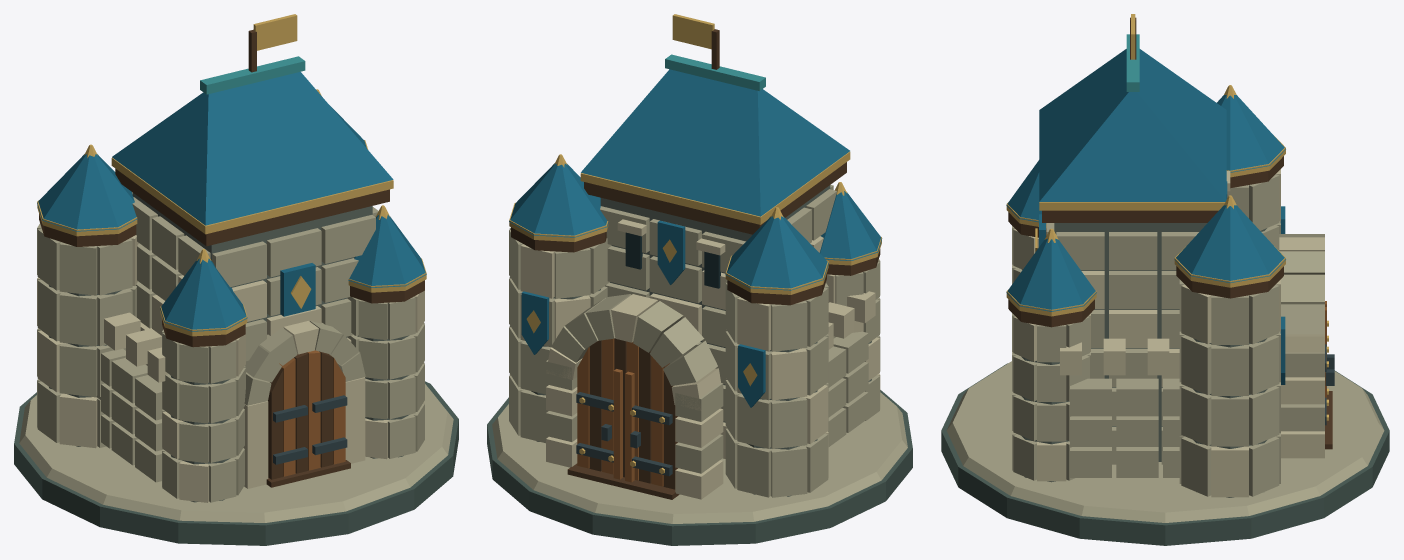
The model's file is forest-town.web.glb.
3 renders of one model, left to right at view 1: azimuth 30°, elevation 25°; view 2: azimuth 150°, elevation 25°; view 3: azimuth 270°, elevation 25°, orthographic. The views are drawn at different scales.
Parts seen in each view (by area): view 1: Rush woodland citadel surface; view 2: Rush woodland citadel surface; view 3: Rush woodland citadel surface.
Boxes of the visible parts, <box> form: Rush woodland citadel surface: <box>14,14,458,545</box>; Rush woodland citadel surface: <box>487,14,912,545</box>; Rush woodland citadel surface: <box>941,14,1389,545</box>.
Size of the model in its own units: 5.12 by 5.52 by 5.12.
